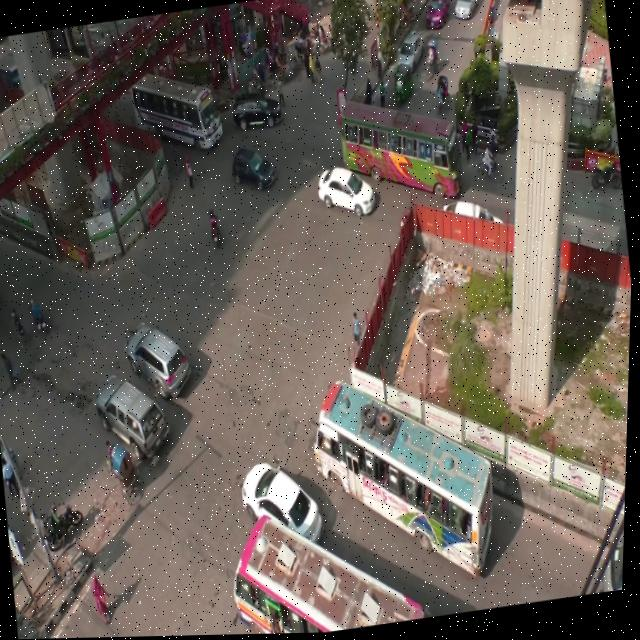cng: (388, 63, 420, 113)
rikshaw: (100, 430, 145, 511), (431, 69, 458, 126), (272, 50, 303, 88), (249, 61, 278, 98), (314, 20, 340, 59), (422, 37, 440, 77)
